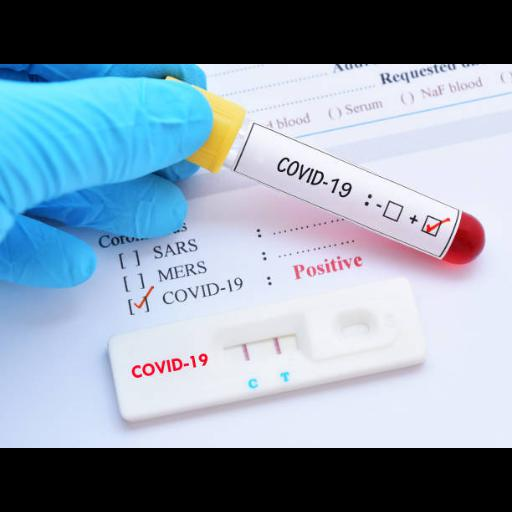Pos: (110, 275, 427, 419)
